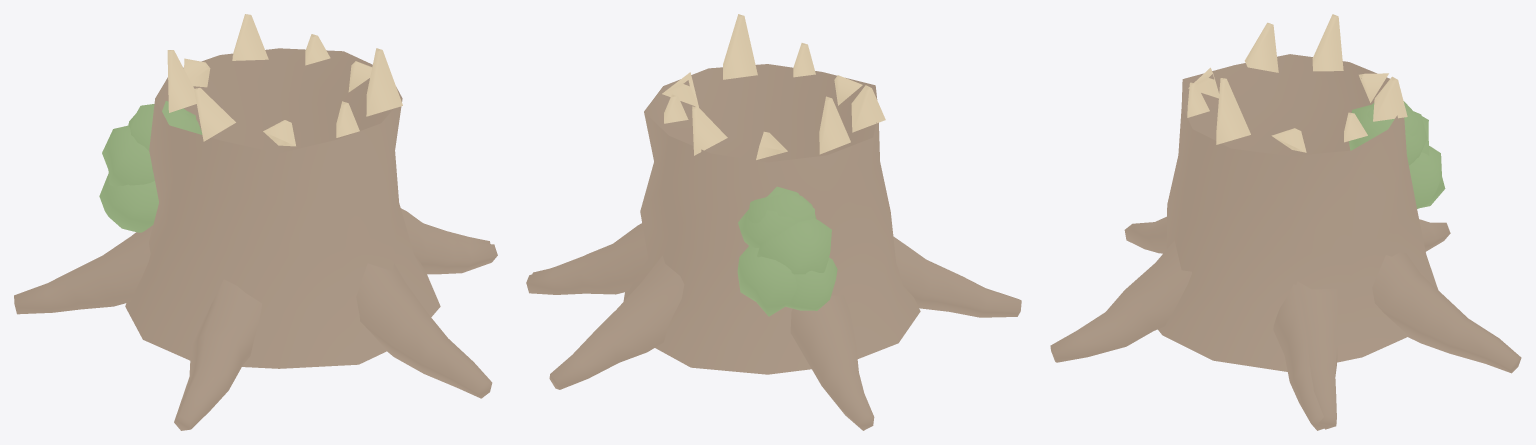
Rendered from Blender_Stump_3.glb.
The picture shows the model from 3 angles, left to right: view 1: azimuth 30°, elevation 25°; view 2: azimuth 150°, elevation 25°; view 3: azimuth 270°, elevation 25°; orthographic projection. The views are drawn at different scales.
Parts seen in each view (by area): view 1: Blender_Stump_3; view 2: Blender_Stump_3; view 3: Blender_Stump_3.
Boxes of the visible parts, x1=… form: Blender_Stump_3: x1=14, y1=14, x2=497, y2=430; Blender_Stump_3: x1=526, y1=14, x2=1021, y2=430; Blender_Stump_3: x1=1050, y1=14, x2=1521, y2=430.
Bounding box in the file's own units: 1.68 × 1.11 × 1.72.
